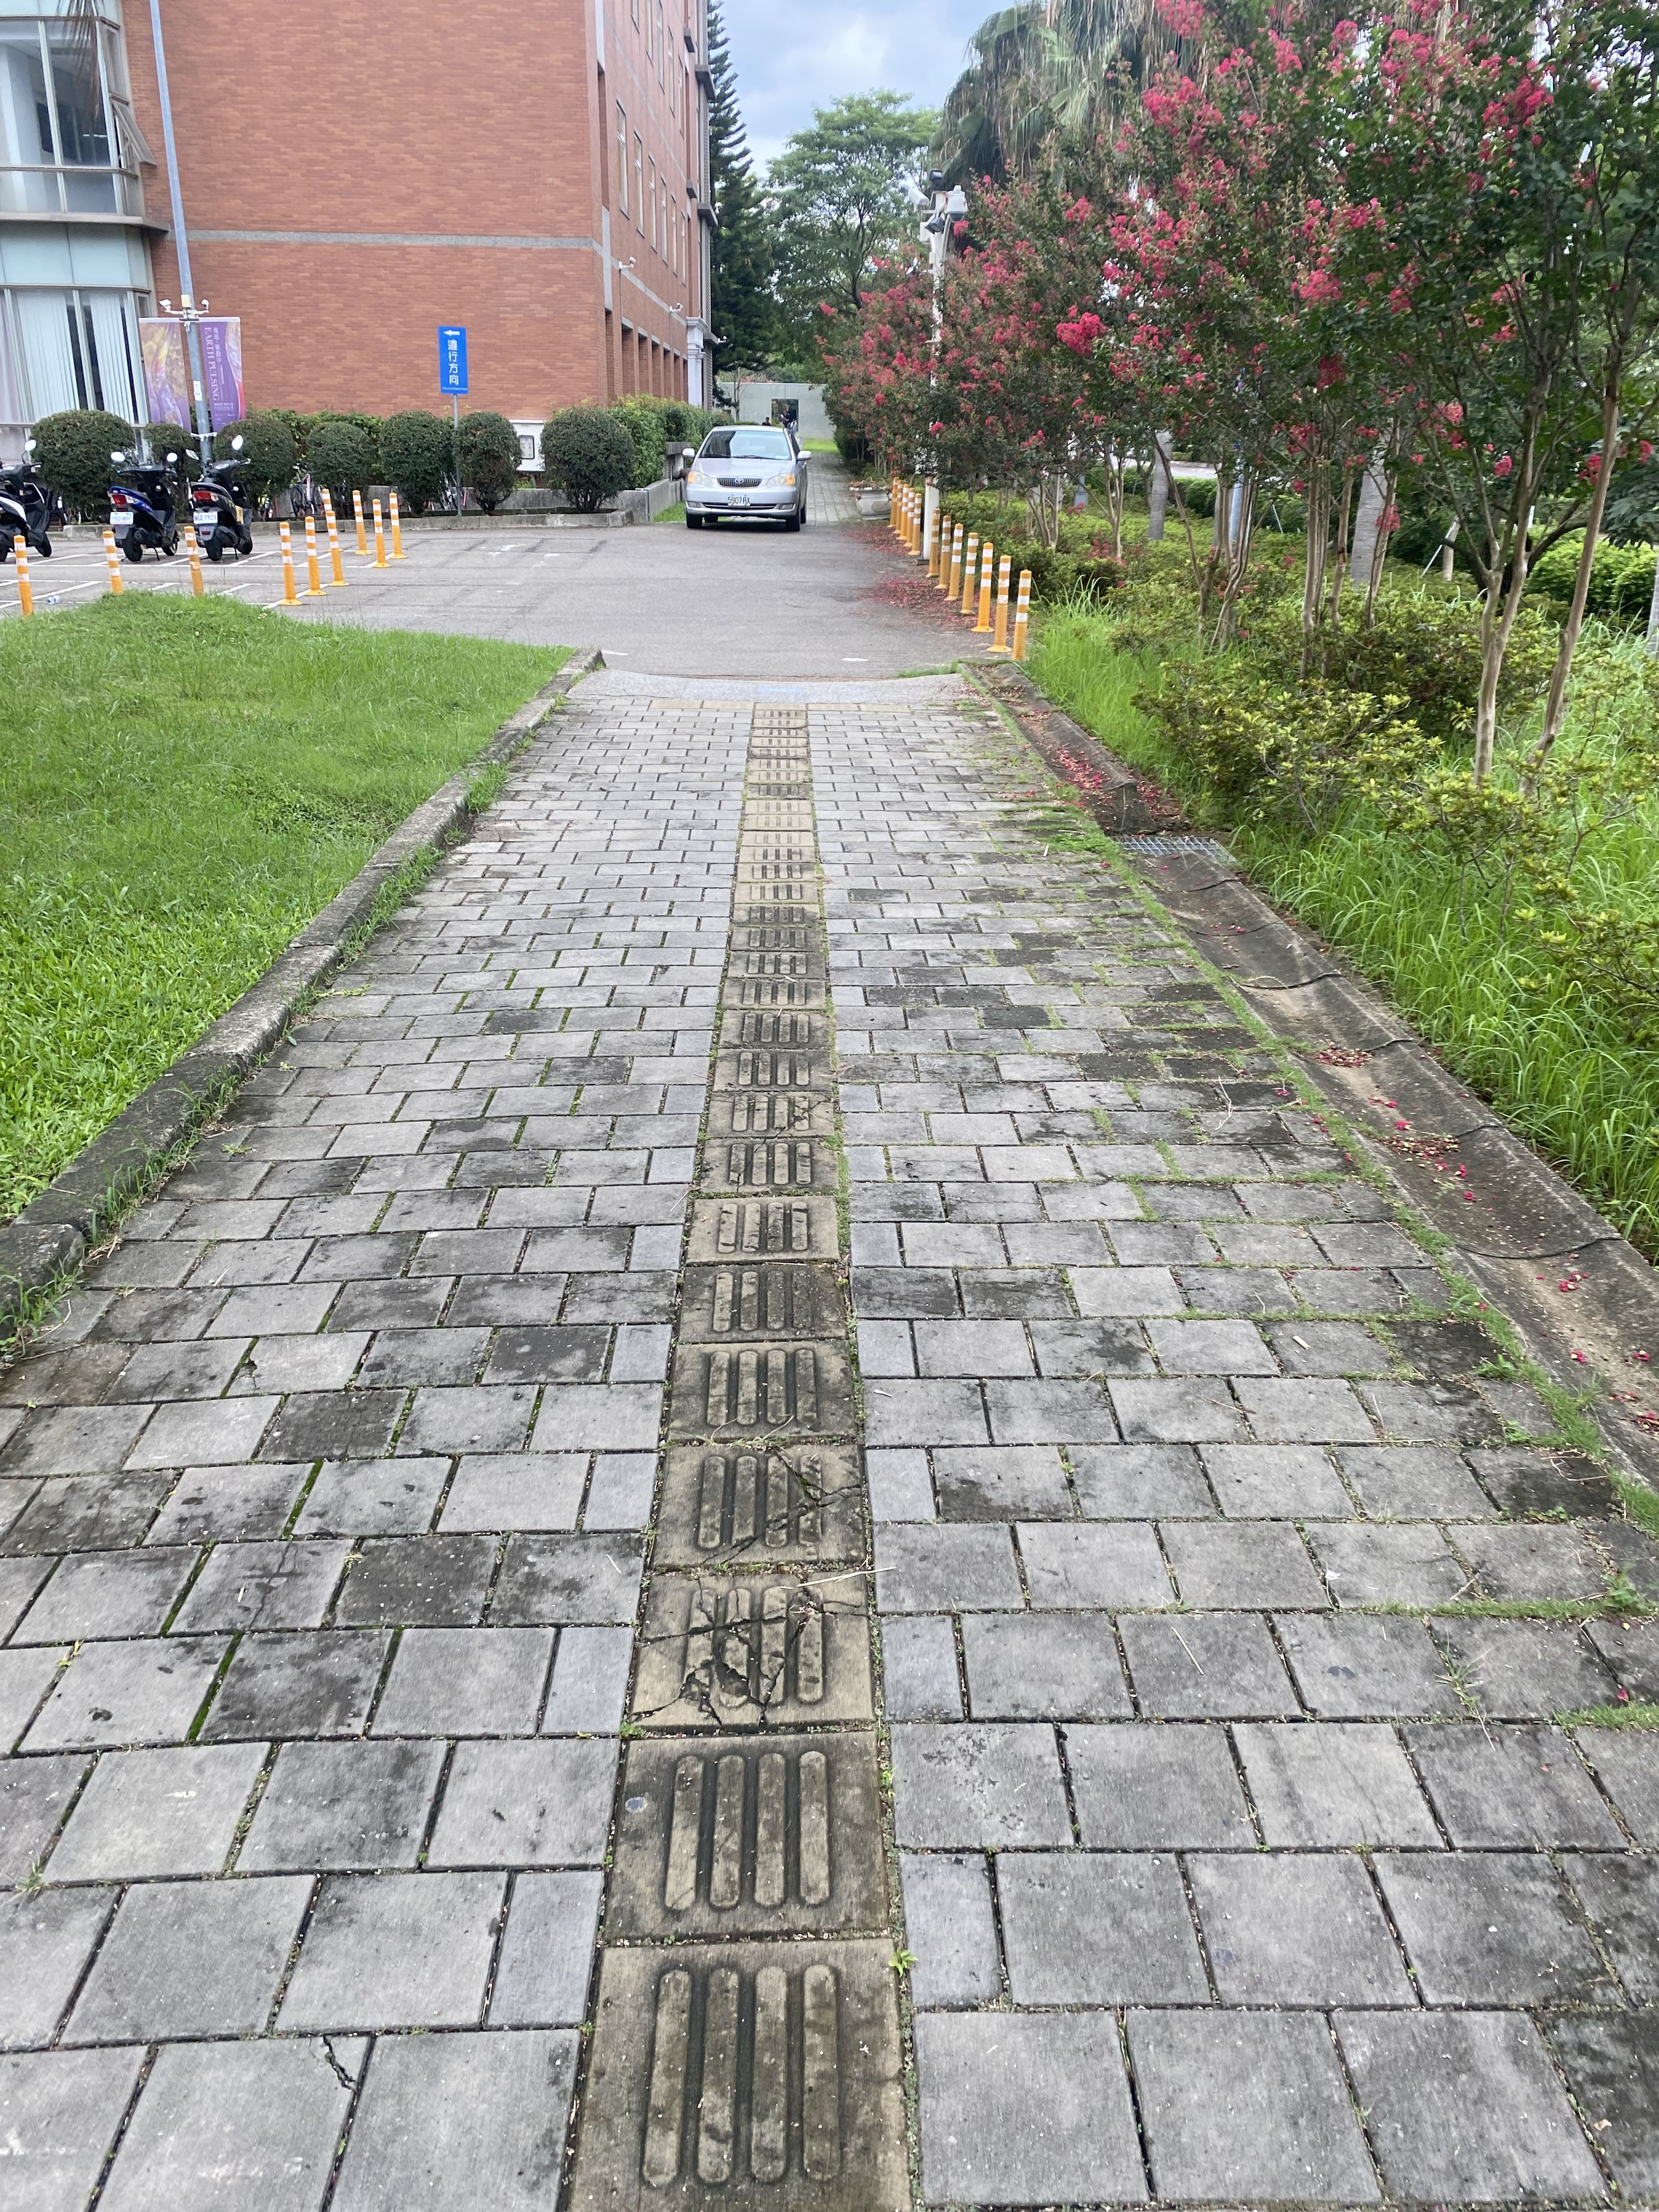0: (7, 641, 1659, 2212)
sidewalk: (575, 415, 990, 719)
